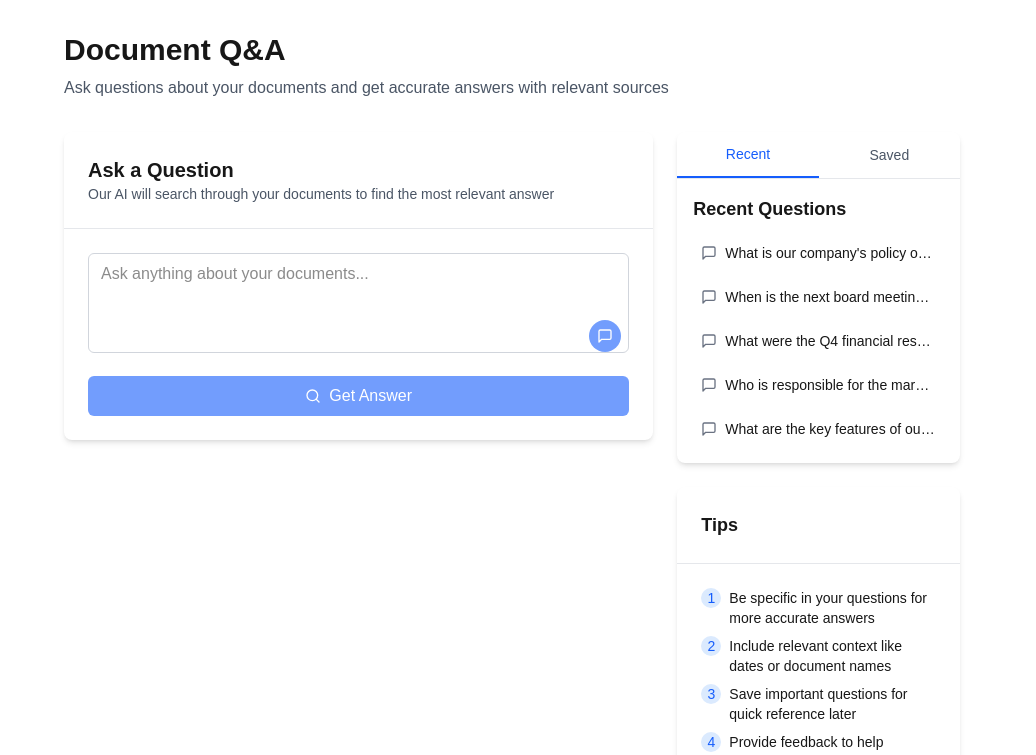
QAPage › handles question submission
Note: Type a question
Type "What is our remote work policy?" into the text box with placeholder "Ask anything about your documents..." at (359, 303), box [88, 253, 629, 353]
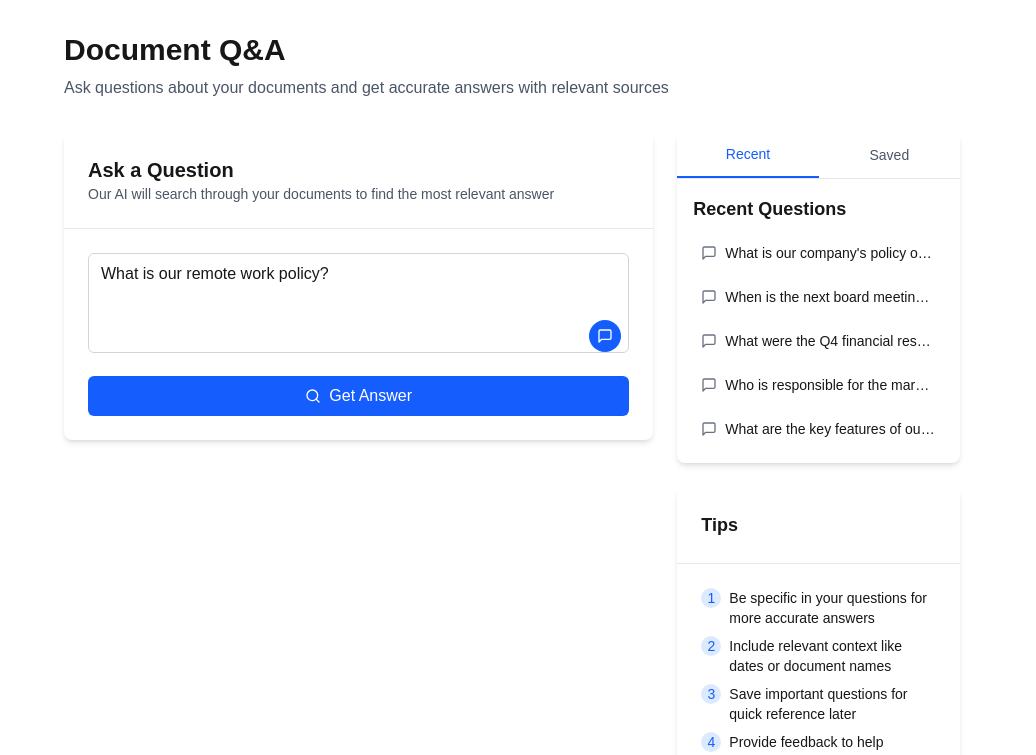
Note: Submit the question
Click the button "Get Answer" at (359, 396), box [88, 376, 629, 416]
Wait 2000 ms
(page scrolled)
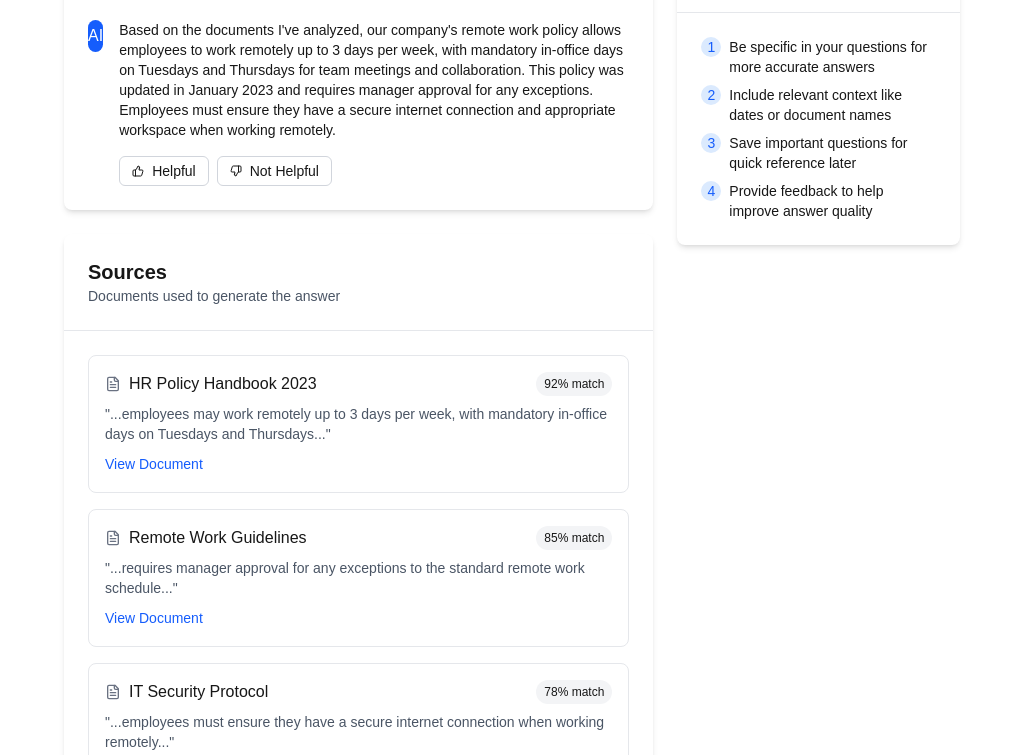
Now the text "Based on the documents I've analyzed" is shown, box [119, 22, 624, 138]
Now the heading "Sources" is shown, box [88, 261, 167, 283]
Now the heading "HR Policy Handbook 2023" is shown, box [129, 372, 317, 396]
